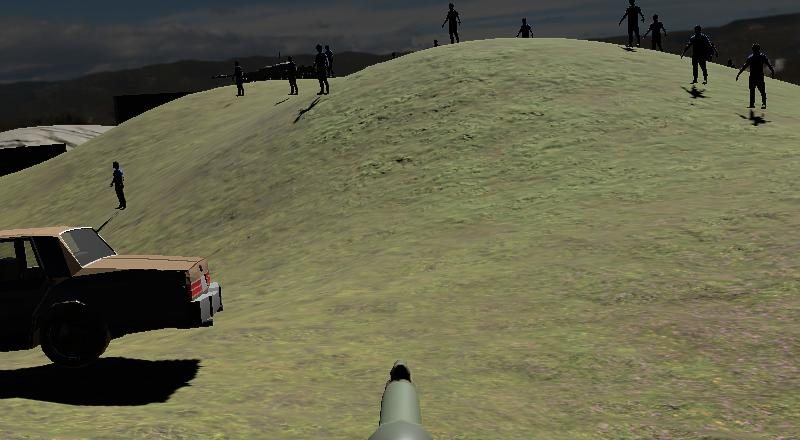Human: (615, 0, 648, 55), (105, 156, 134, 214), (439, 0, 466, 50), (311, 41, 334, 98), (644, 8, 671, 56), (514, 15, 537, 43)
car: (1, 220, 228, 374)
